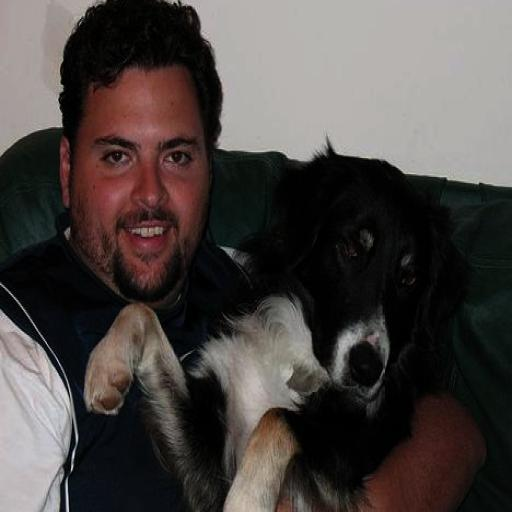dog_face: (282, 158, 458, 399)
